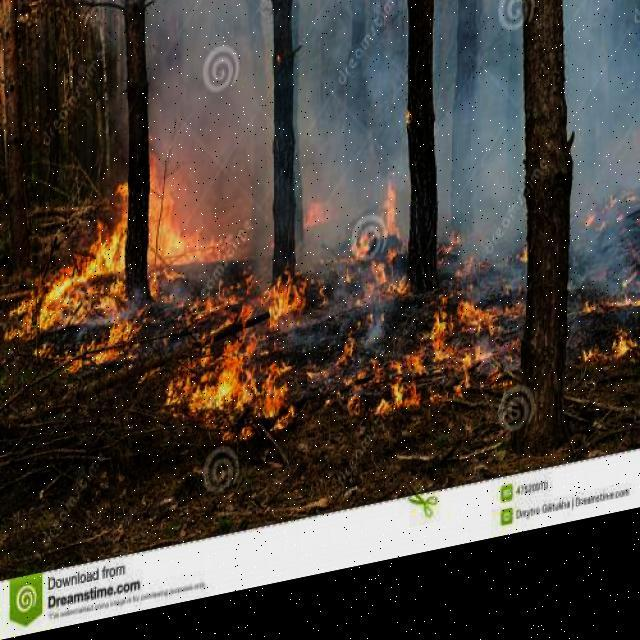Fire: (22, 74, 638, 514)
